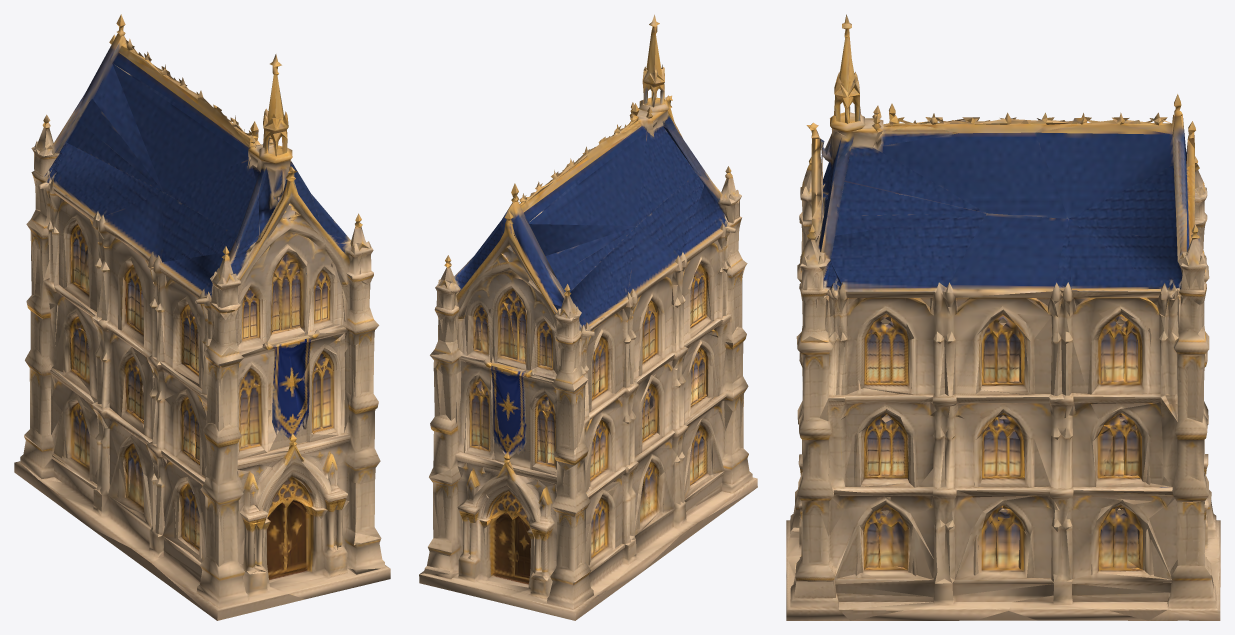
File: hall-half.glb
3 views of the same model, side by side, from view 1: azimuth 30°, elevation 25°; view 2: azimuth 150°, elevation 25°; view 3: azimuth 270°, elevation 25° (orthographic). The views are drawn at different scales.
Visible parts, largest first — view 1: Mesh_0; view 2: Mesh_0; view 3: Mesh_0.
Part boxes in pixels (x1,y1,x2,y2): Mesh_0: (14, 14, 390, 620); Mesh_0: (419, 14, 757, 620); Mesh_0: (786, 14, 1220, 620).
Bounding box in the file's own units: 5.92 × 17.12 × 12.
1 material, 1 textured.
